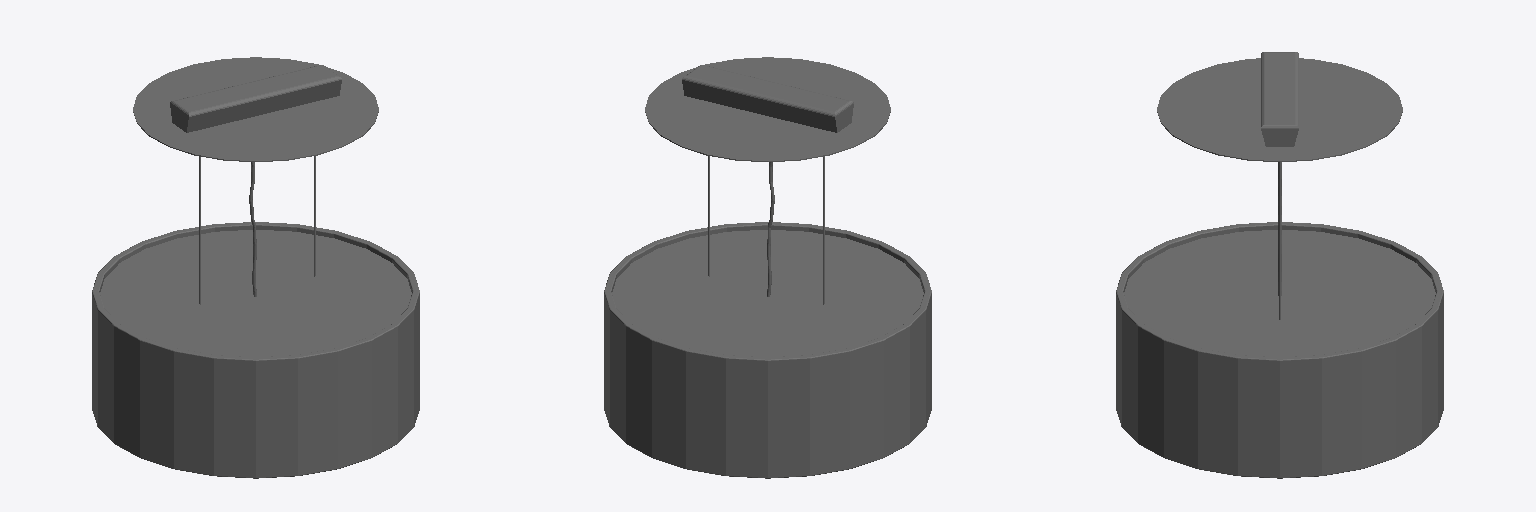
File: ceilingLight.obj
The picture shows the model from 3 angles: view 1: azimuth 30°, elevation 25°; view 2: azimuth 150°, elevation 25°; view 3: azimuth 270°, elevation 25°; orthographic projection.
Visible parts, largest first — view 1: Hanging_Round_Lamp; view 2: Hanging_Round_Lamp; view 3: Hanging_Round_Lamp.
Boxes of the visible parts, x1,y1,x2,y2 form: Hanging_Round_Lamp: [92, 57, 419, 478]; Hanging_Round_Lamp: [604, 57, 931, 478]; Hanging_Round_Lamp: [1116, 52, 1443, 478].
Bounding box in the file's own units: 0.888 × 1 × 0.888.